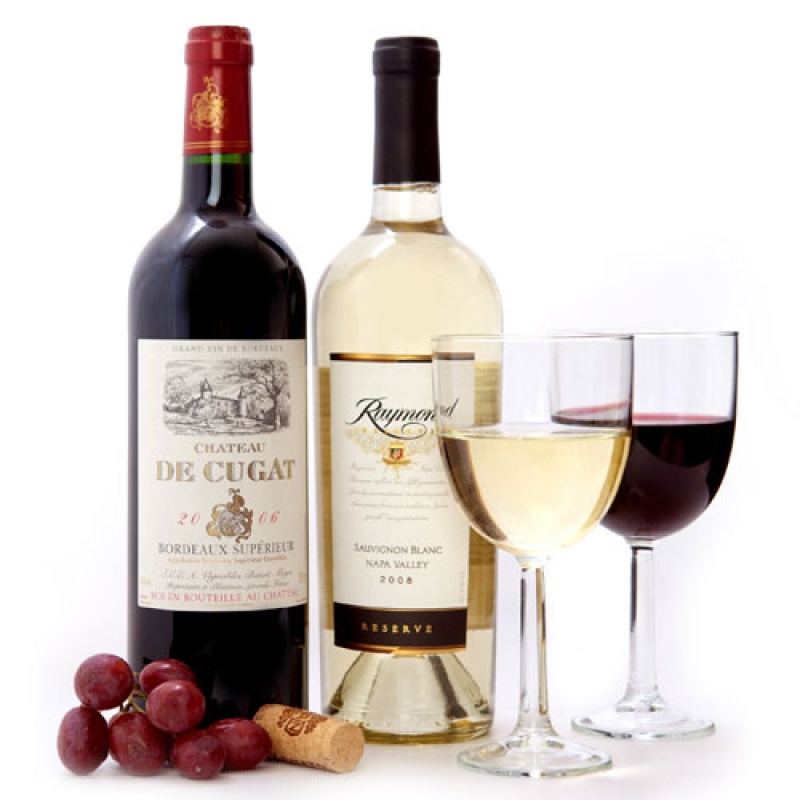wine: (317, 61, 517, 740), (115, 24, 306, 730)
